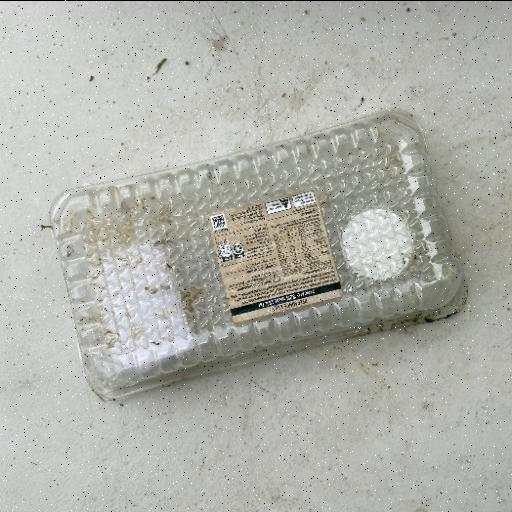Plastic: (45, 108, 468, 402), (206, 188, 343, 324)
